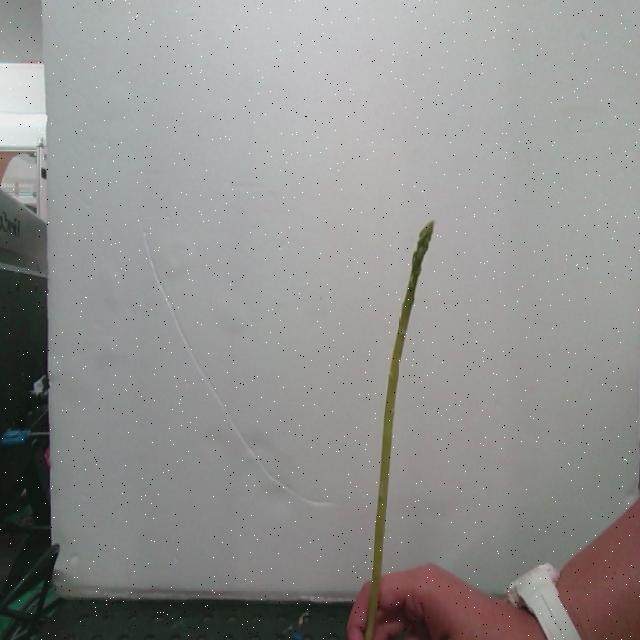aspargus: (367, 224, 437, 640)
